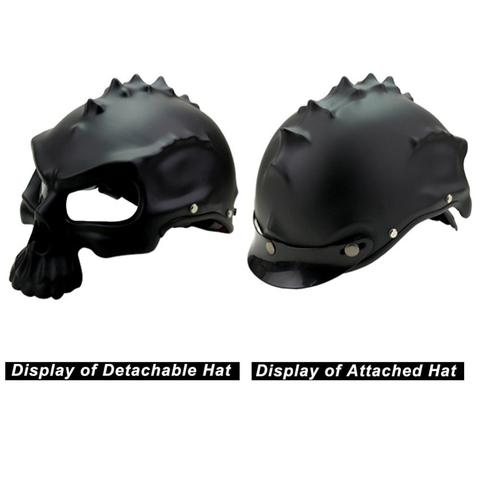with_helmet: (250, 61, 477, 280), (11, 67, 239, 281)
